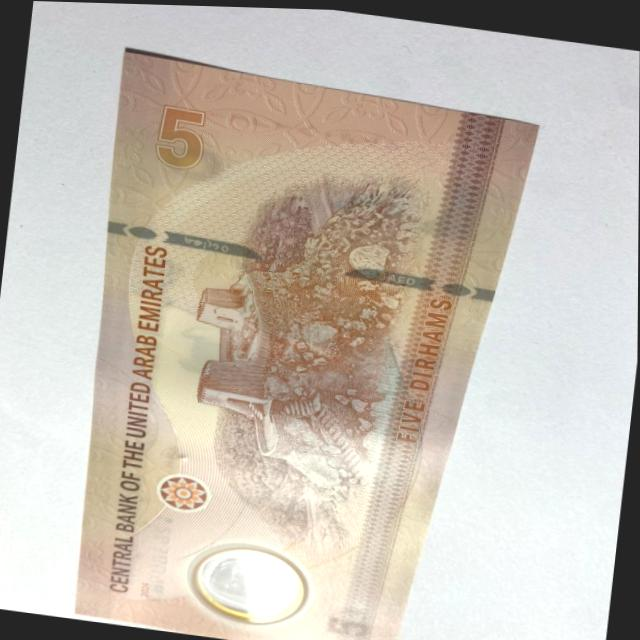5_AED: (70, 48, 538, 640)
